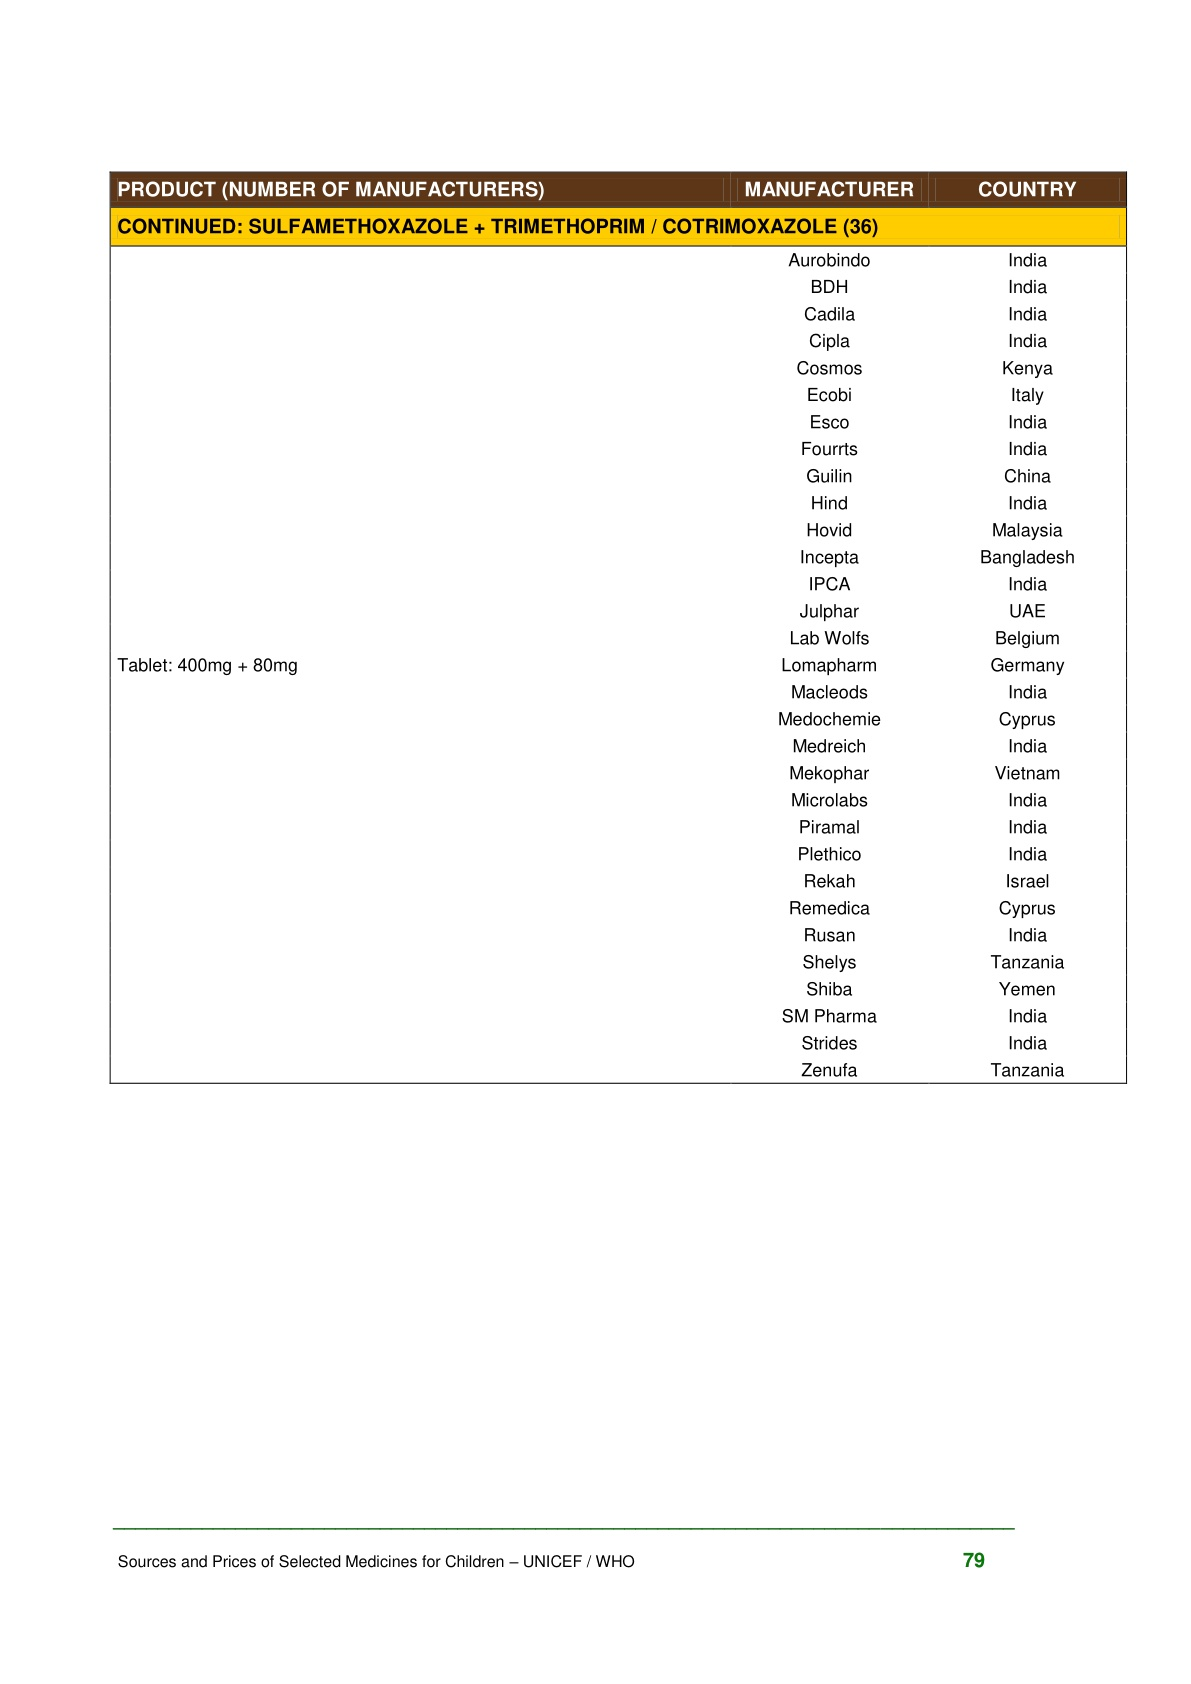partial_lined_merged_cells: (108, 169, 1128, 1086)
